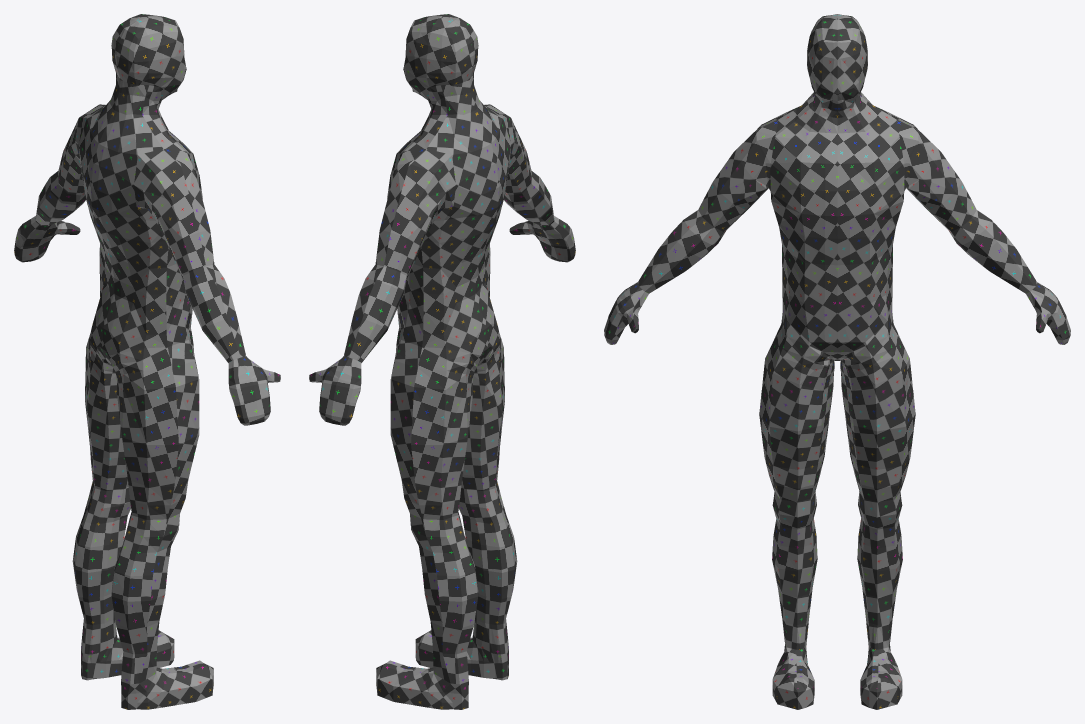
File: servant.dae
3 renders of one model, left to right at view 1: azimuth 30°, elevation 25°; view 2: azimuth 150°, elevation 25°; view 3: azimuth 270°, elevation 25°, orthographic.
Visible parts, largest first — view 1: Cube; view 2: Cube; view 3: Cube.
Part boxes in pixels (left/top/right/bottom): Cube: left=14, top=14, right=280, bottom=709; Cube: left=309, top=14, right=575, bottom=709; Cube: left=604, top=14, right=1070, bottom=709.
Bounding box in the file's own units: 2.44 × 9.52 × 15.06.
1 material, 1 textured.
